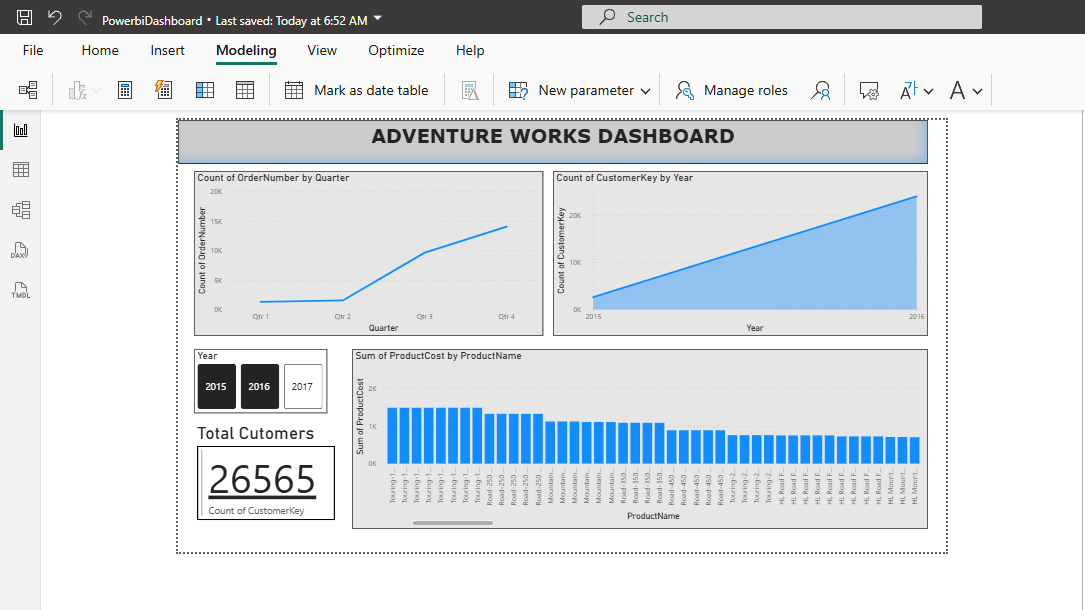

Layout of this report page (visuals, bound fields, positions):
{"tool":"powerbi","page":{"name":"Page 1","canvas":[1280,720],"ordinal":0},"visuals":[{"type":"lineChart","fields":{"Y":["CountNonNull(gold extsales.OrderNumber)"],"Category":["gold extsales.OrderDate.Variation.Date Hierarchy.Quarter"]},"box":[26.7,85,581.7,275],"z":0},{"type":"textbox","box":[950,96,300,300],"z":1000},{"type":"textbox","box":[0,0,1250,73.3],"z":2000},{"type":"multiRowCard","title":"Total Cutomers","fields":{"Values":["gold extsales.CustomerKey"]},"box":[26.7,505,240,176.7],"z":3000},{"type":"areaChart","fields":{"Y":["CountNonNull(gold extsales.CustomerKey)"],"Category":["gold extsales.OrderDate.Variation.Date Hierarchy.Year"]},"box":[625,85,625,275],"z":4000},{"type":"clusteredColumnChart","fields":{"Category":["gold extproducts.ProductName"],"Y":["Sum(gold extproducts.ProductCost)"]},"box":[290,381.7,960,300],"z":5000},{"type":"advancedSlicerVisual","fields":{"Values":["gold extsales.OrderDate.Variation.Date Hierarchy.Year"]},"box":[26.7,381.7,221.7,106.7],"z":6000}]}

Visuals, with their boxes on the page's 1280x720 design canvas (x1, y1, x2, y2). These are canvas units, not pixel positions in the 1085x610 screenshot, which may show the page scaled, cropped or inside an application window:
lineChart - CountNonNull(gold extsales.OrderNumber) x gold extsales.OrderDate.Variation.Date Hierarchy.Quarter: [x1=27, y1=85, x2=608, y2=360]
textbox: [x1=950, y1=96, x2=1250, y2=396]
textbox: [x1=0, y1=0, x2=1250, y2=73]
"Total Cutomers" multiRowCard: [x1=27, y1=505, x2=267, y2=682]
areaChart - CountNonNull(gold extsales.CustomerKey) x gold extsales.OrderDate.Variation.Date Hierarchy.Year: [x1=625, y1=85, x2=1250, y2=360]
clusteredColumnChart - gold extproducts.ProductName x Sum(gold extproducts.ProductCost): [x1=290, y1=382, x2=1250, y2=682]
advancedSlicerVisual - gold extsales.OrderDate.Variation.Date Hierarchy.Year: [x1=27, y1=382, x2=248, y2=488]
